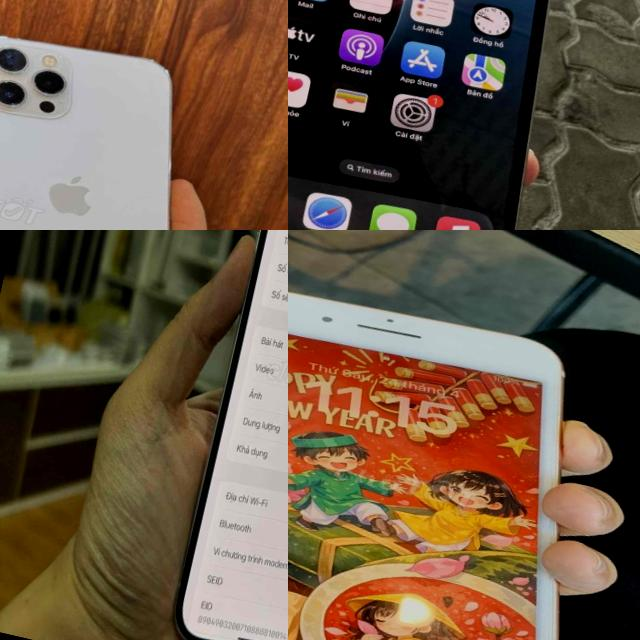scratch: (288, 280, 453, 351)
